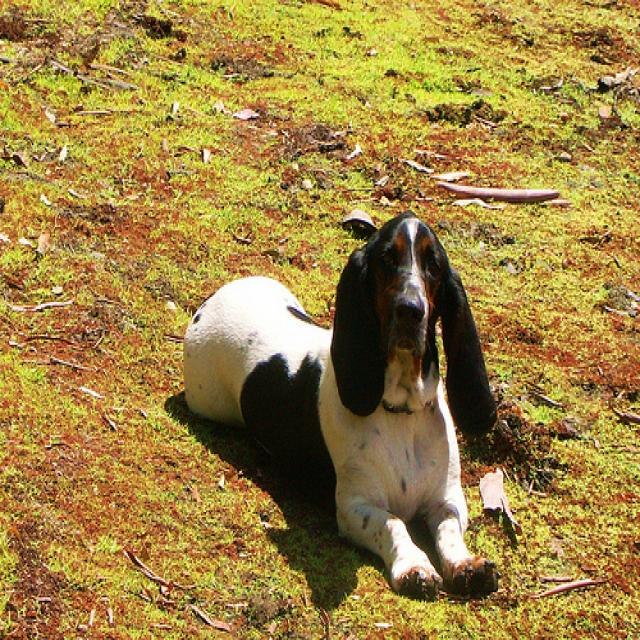dog-basset_hound: (174, 205, 507, 606)
